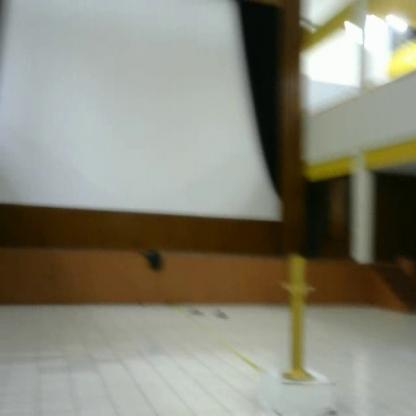pole: (275, 254, 322, 388)
